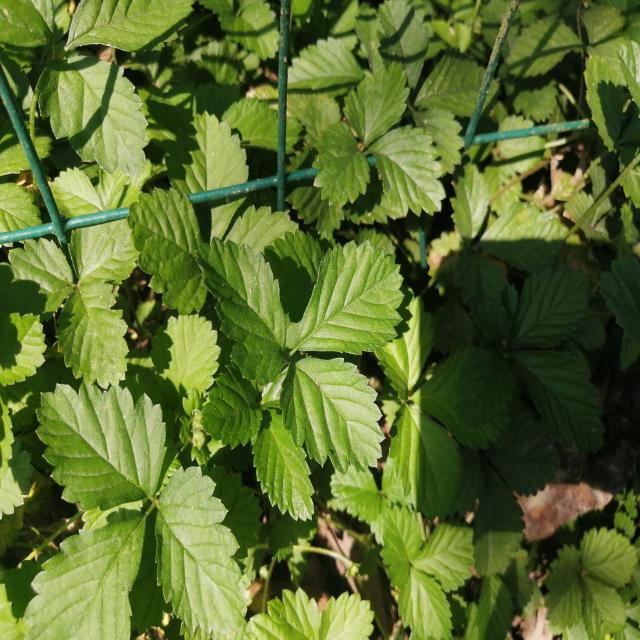Mock_strawberry: (14, 368, 257, 635), (197, 231, 406, 471)
